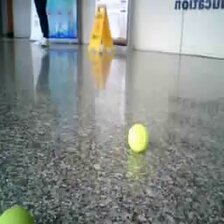tennis: (1, 204, 33, 224), (128, 124, 148, 153)
